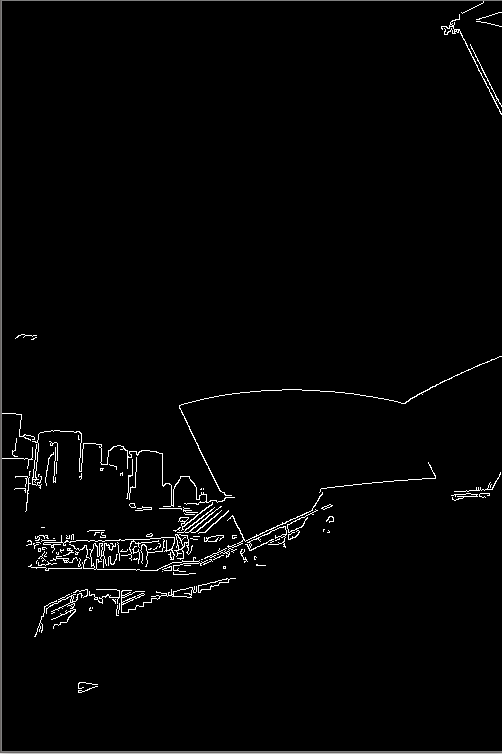opera house: (98, 266, 496, 584)
